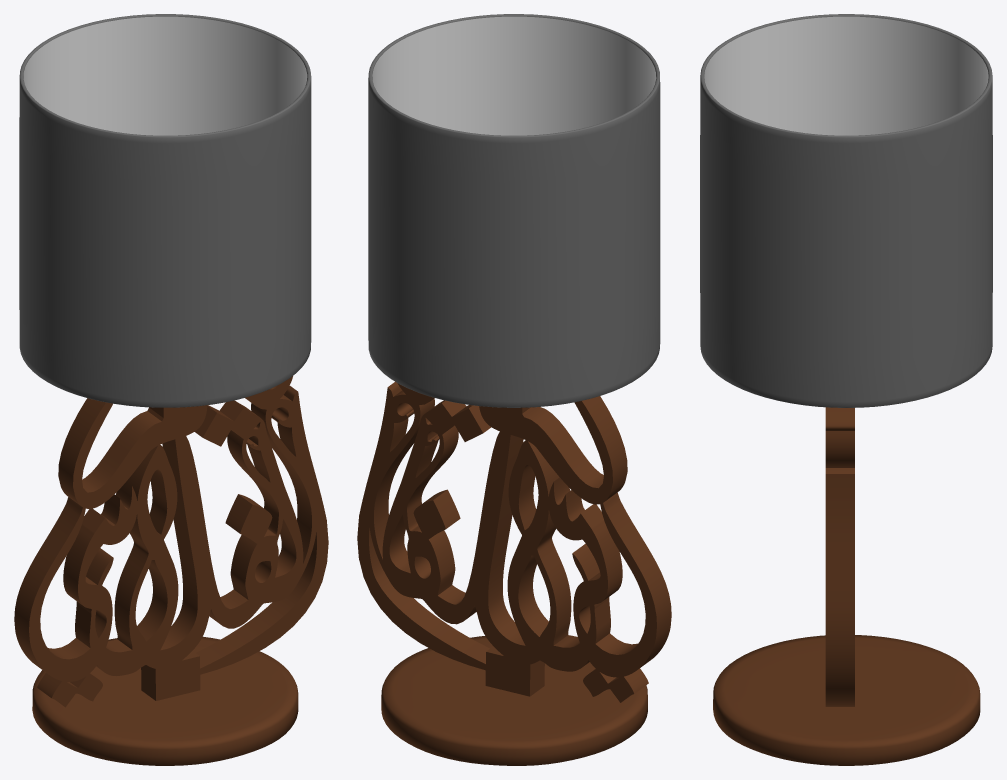
The picture shows the model from 3 angles, left to right: view 1: azimuth 30°, elevation 25°; view 2: azimuth 150°, elevation 25°; view 3: azimuth 270°, elevation 25°; orthographic projection.
Visible parts, largest first — view 1: shade outside, Curve.039, shade inside, base; view 2: shade outside, Curve.039, shade inside, base; view 3: shade outside, shade inside, base, Curve.039.
Part boxes in pixels (bbox=[...]): shade outside: bbox=[19, 14, 311, 407]; Curve.039: bbox=[14, 376, 328, 707]; shade inside: bbox=[23, 16, 307, 135]; base: bbox=[32, 636, 298, 765]; shade outside: bbox=[368, 14, 660, 407]; Curve.039: bbox=[357, 381, 671, 702]; shade inside: bbox=[372, 16, 656, 135]; base: bbox=[381, 636, 647, 765]; shade outside: bbox=[700, 14, 992, 407]; shade inside: bbox=[704, 16, 988, 135]; base: bbox=[713, 635, 980, 765]; Curve.039: bbox=[825, 407, 854, 706].
Bounding box in the file's own units: 25.29 × 51.16 × 21.38.
